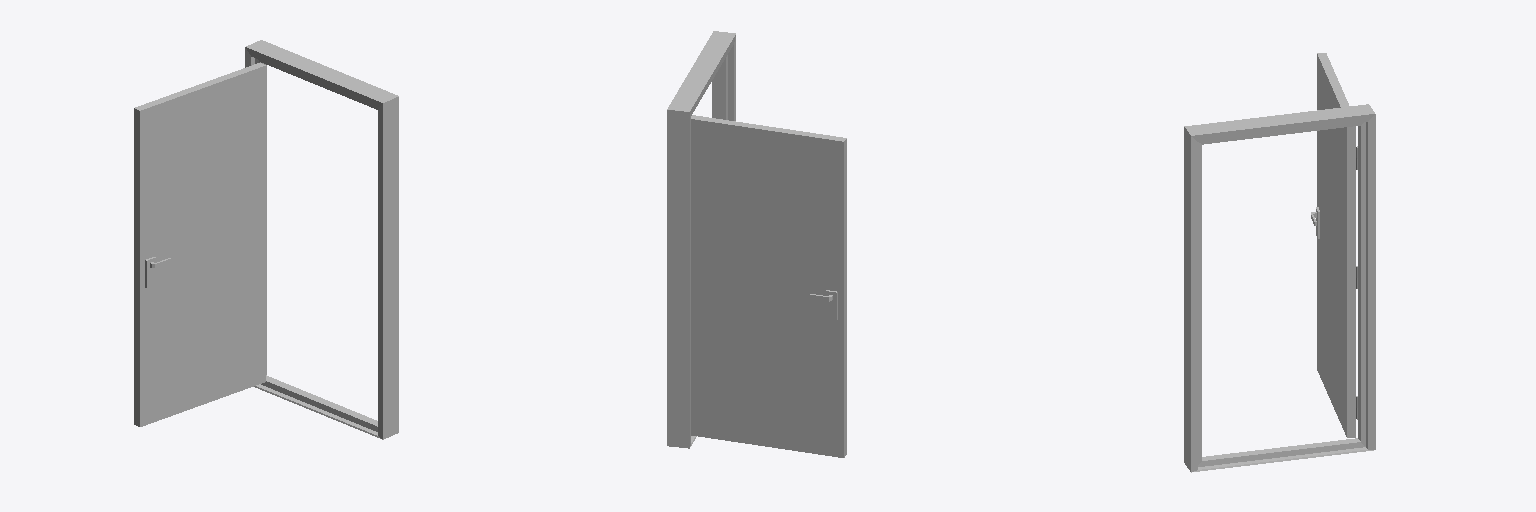
Rendered from exportDoor.obj.
3 renders of one model, left to right at view 1: azimuth 30°, elevation 25°; view 2: azimuth 150°, elevation 25°; view 3: azimuth 270°, elevation 25°, orthographic.
Parts seen in each view (by area): view 1: Door_mechanism_0, Door__0; view 2: Door_mechanism_0, Door__0; view 3: Door__0, Door_mechanism_0.
Boxes of the visible parts, <box> form: Door_mechanism_0: <box>134,63,265,426</box>; Door__0: <box>245,40,398,439</box>; Door_mechanism_0: <box>691,115,846,457</box>; Door__0: <box>667,31,735,448</box>; Door__0: <box>1184,104,1375,472</box>; Door_mechanism_0: <box>1316,53,1357,437</box>.
Bounding box in the file's own units: 2.1 × 3.42 × 1.76.